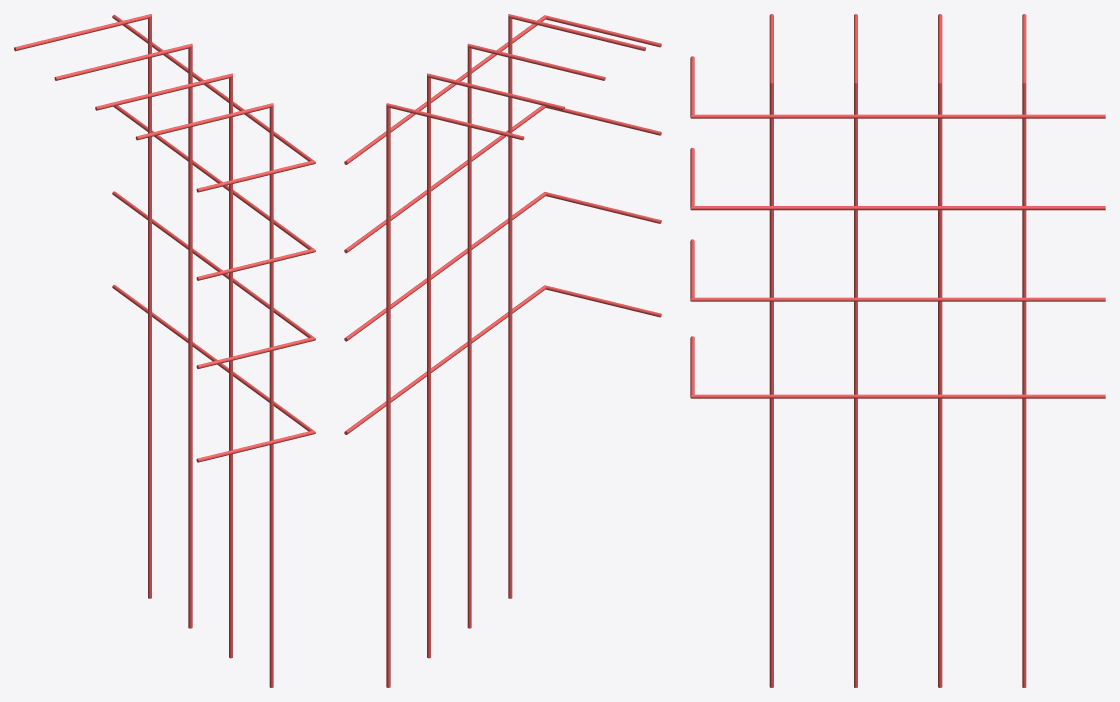
The model's file is structure_vertical.fbx.
3 renders of one model, left to right at view 1: azimuth 30°, elevation 25°; view 2: azimuth 150°, elevation 25°; view 3: azimuth 270°, elevation 25°, orthographic. The views are drawn at different scales.
Parts seen in each view (by area): view 1: Group8, Group2, Group5, Group7, Group3, Group6, Group4, Group1; view 2: Group5, Group7, Group2, Group8, Group6, Group3, Group4, Group1; view 3: Group2, Group5, Group8, Group7, Group4, Group6, Group1, Group3.
Part boxes in pixels (x1,y1,x2,y2): Group8: (54, 43, 192, 628); Group2: (135, 103, 273, 687); Group5: (14, 14, 151, 598); Group7: (95, 73, 232, 658); Group3: (112, 284, 315, 462); Group6: (112, 191, 315, 368); Group4: (113, 105, 315, 280); Group1: (112, 14, 315, 192); Group5: (386, 103, 524, 687); Group7: (467, 43, 605, 628); Group2: (508, 14, 645, 598); Group8: (427, 73, 564, 658); Group6: (344, 192, 661, 341); Group3: (344, 285, 661, 434); Group4: (344, 105, 661, 253); Group1: (344, 15, 661, 164); Group2: (769, 14, 773, 687); Group5: (1022, 14, 1026, 687); Group8: (938, 14, 942, 687); Group7: (854, 14, 857, 687); Group4: (690, 147, 1105, 210); Group6: (690, 239, 1105, 301); Group1: (690, 56, 1105, 118); Group3: (690, 336, 1105, 398).
Size of the model in its own units: 3.98 by 15.86 by 9.86.
